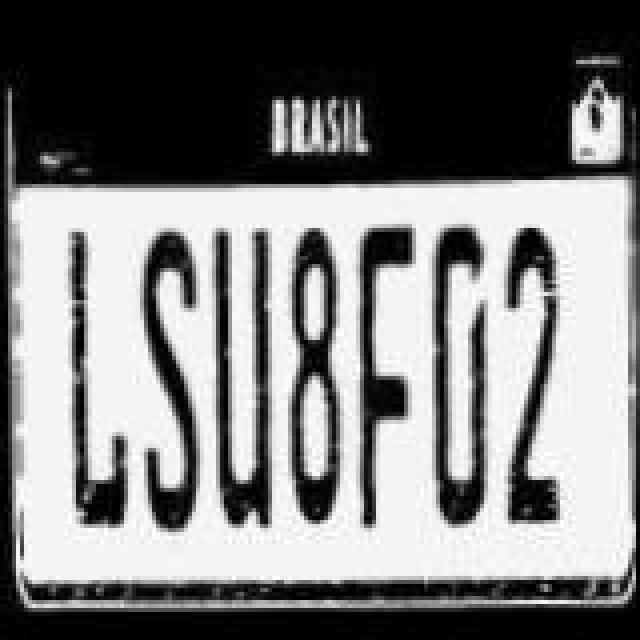2: (500, 224, 568, 532)
8: (288, 222, 348, 522)
D: (430, 224, 494, 528)
F: (360, 214, 420, 526)
L: (54, 226, 138, 538)
S: (140, 228, 200, 532)
U: (202, 184, 290, 528)
